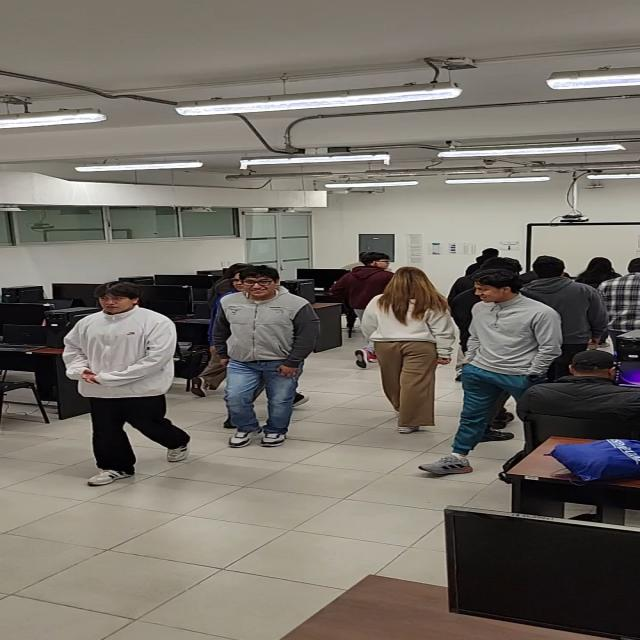Persona: (64, 278, 188, 451), (214, 266, 323, 428), (467, 270, 546, 439), (367, 267, 448, 423), (530, 259, 616, 350), (333, 255, 391, 302)
